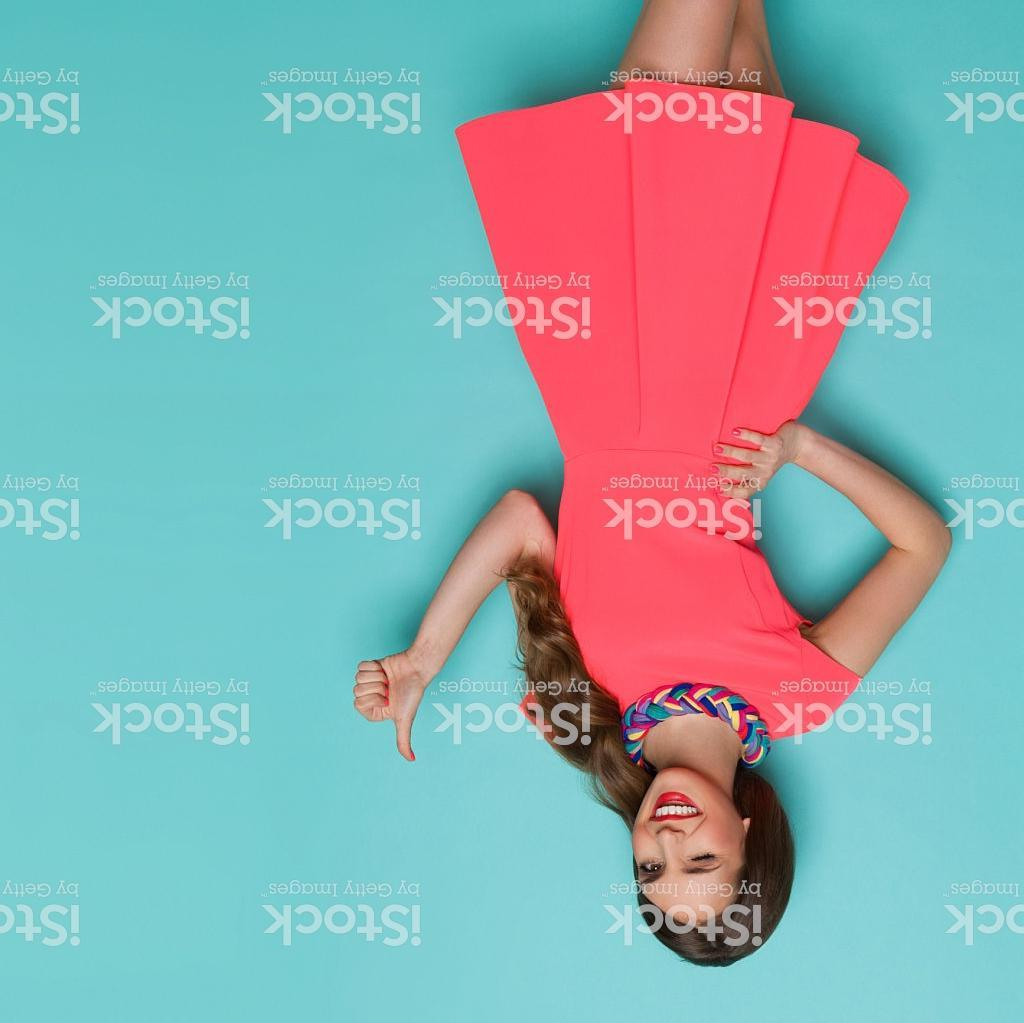thumbsdown: (351, 655, 422, 763)
